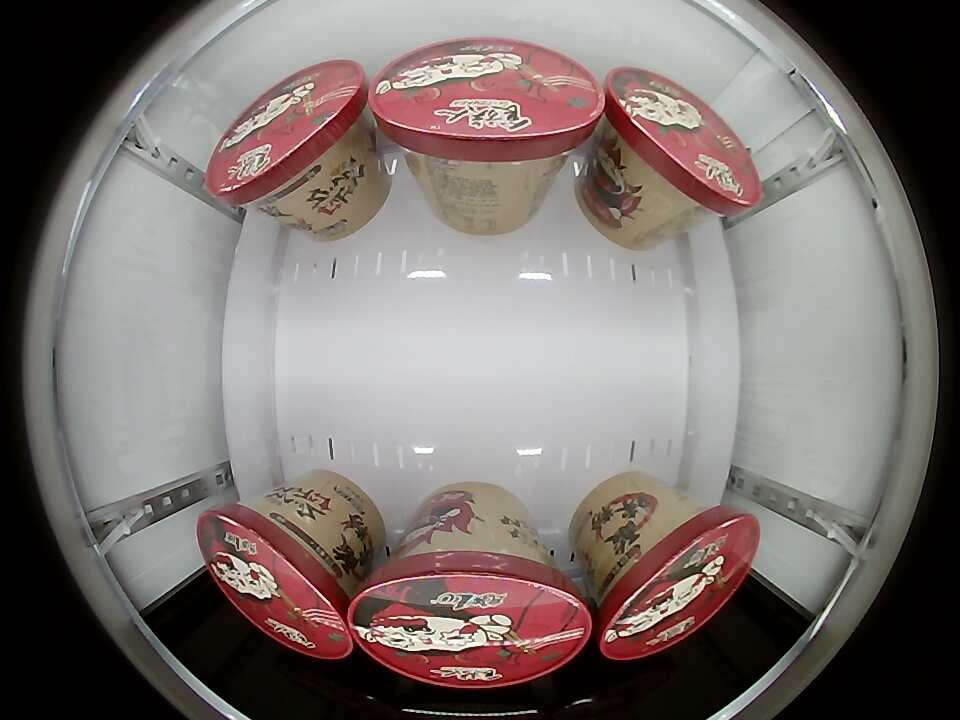suanlafen: (347, 544, 594, 688), (369, 40, 607, 171), (592, 505, 761, 661), (197, 500, 357, 660), (206, 60, 371, 208), (601, 66, 762, 217)
